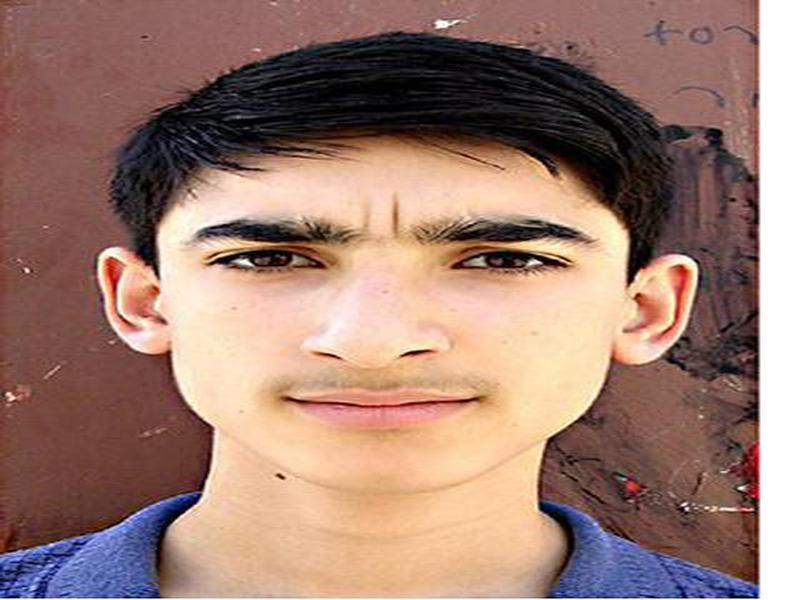without_mask: (160, 176, 613, 493)
